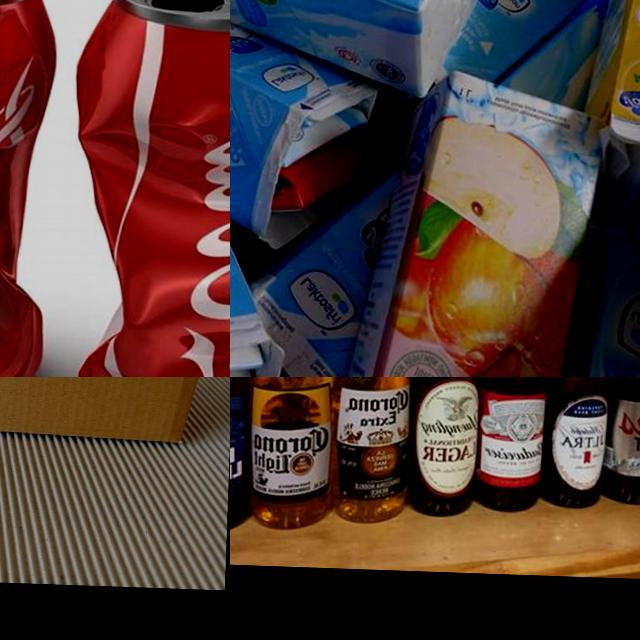caixinha: (328, 63, 610, 377), (230, 0, 381, 255), (230, 0, 489, 100), (575, 0, 640, 167)
garrafa de vidro: (245, 377, 338, 531), (326, 377, 412, 524), (402, 377, 487, 516), (472, 377, 551, 511), (538, 377, 614, 510), (600, 377, 640, 506)
lata: (61, 0, 230, 377), (0, 0, 61, 377)
papelão: (0, 377, 230, 445)
